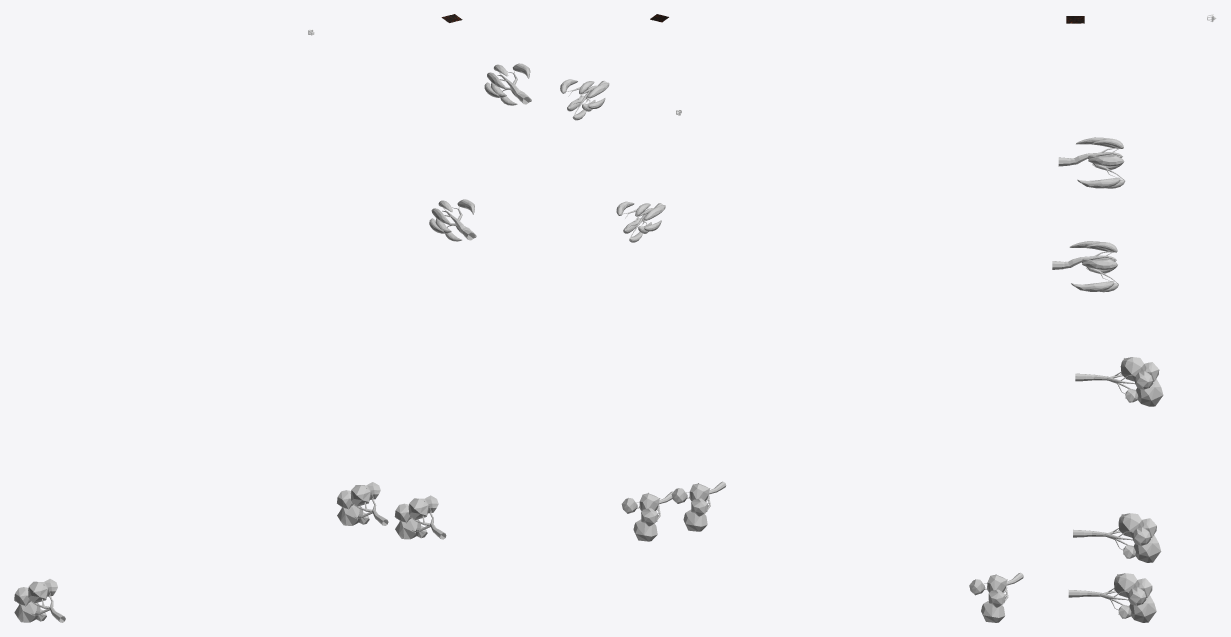
File: ground4.obj
The picture shows the model from 3 angles, left to right: view 1: azimuth 30°, elevation 25°; view 2: azimuth 150°, elevation 25°; view 3: azimuth 270°, elevation 25°; orthographic projection. The views are drawn at different scales.
Parts seen in each view (by area): view 1: Cherry_Tree_1_LOD0.002, Cherry_Tree_1_LOD0, Cherry_Tree_1_LOD0.001, Willow_Tree_1_LOD0.003, Willow_Tree_1_LOD0.002; view 2: Cherry_Tree_1_LOD0.001, Cherry_Tree_1_LOD0, Cherry_Tree_1_LOD0.002, Willow_Tree_1_LOD0.002, Willow_Tree_1_LOD0.003; view 3: Cherry_Tree_1_LOD0, Cherry_Tree_1_LOD0.001, Cherry_Tree_1_LOD0.002, Willow_Tree_1_LOD0.002, Willow_Tree_1_LOD0.003.
Part boxes in pixels (<box>): Cherry_Tree_1_LOD0.002: <box>394,495,446,539</box>; Cherry_Tree_1_LOD0: <box>14,579,65,622</box>; Cherry_Tree_1_LOD0.001: <box>337,482,388,525</box>; Willow_Tree_1_LOD0.003: <box>429,199,476,241</box>; Willow_Tree_1_LOD0.002: <box>484,63,531,105</box>; Cherry_Tree_1_LOD0.001: <box>671,481,726,531</box>; Cherry_Tree_1_LOD0: <box>969,572,1023,622</box>; Cherry_Tree_1_LOD0.002: <box>621,491,673,541</box>; Willow_Tree_1_LOD0.002: <box>560,79,609,120</box>; Willow_Tree_1_LOD0.003: <box>616,201,665,242</box>; Cherry_Tree_1_LOD0: <box>1075,357,1163,406</box>; Cherry_Tree_1_LOD0.001: <box>1073,513,1161,562</box>; Cherry_Tree_1_LOD0.002: <box>1068,573,1156,622</box>; Willow_Tree_1_LOD0.002: <box>1058,137,1125,188</box>; Willow_Tree_1_LOD0.003: <box>1052,241,1118,292</box>.
Size of what is drawn, in the model's own units: 6055 by 6300 by 1539.
